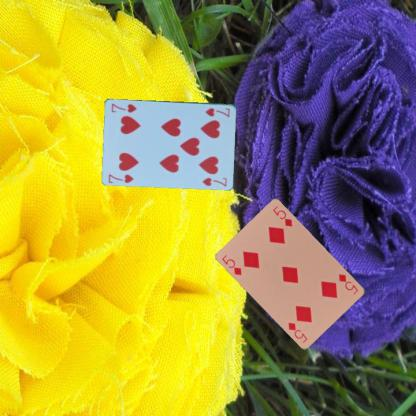5d: (336, 271, 360, 296), (220, 252, 243, 277)
7h: (203, 105, 231, 118), (106, 172, 135, 184)
